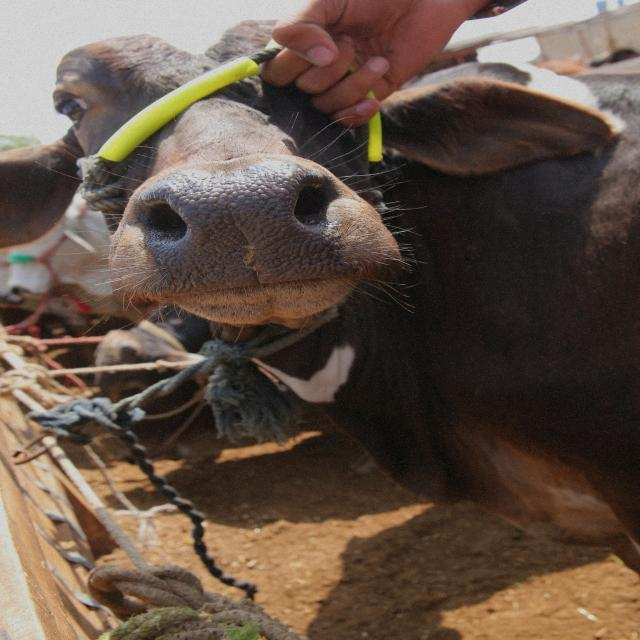muzzles: (125, 165, 368, 298)
